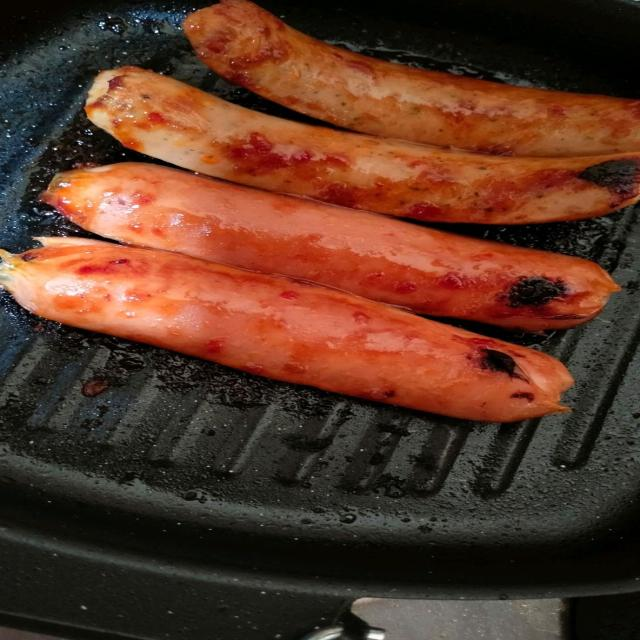sausage: (0, 238, 572, 421), (43, 163, 619, 331), (87, 68, 639, 224), (185, 0, 639, 157)
